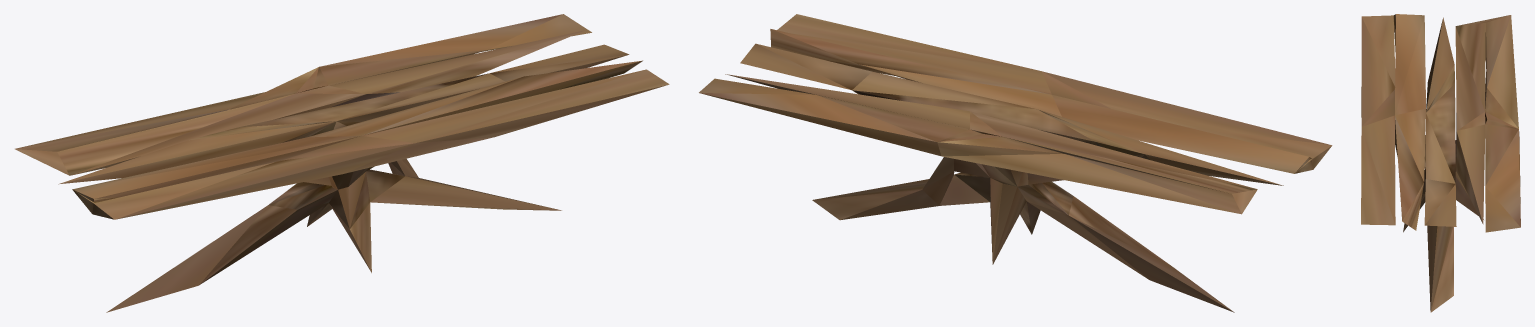
File: long_table_low.glb
The picture shows the model from 3 angles, left to right: view 1: azimuth 30°, elevation 25°; view 2: azimuth 150°, elevation 25°; view 3: azimuth 270°, elevation 25°; orthographic projection. The views are drawn at different scales.
Parts seen in each view (by area): view 1: m; view 2: m; view 3: m.
Boxes of the visible parts, <box> form: m: <box>15,14,669,312</box>; m: <box>699,14,1332,312</box>; m: <box>1361,14,1520,312</box>.
Bounding box in the file's own units: 3 × 0.76 × 0.961.
1 material, 1 textured.
